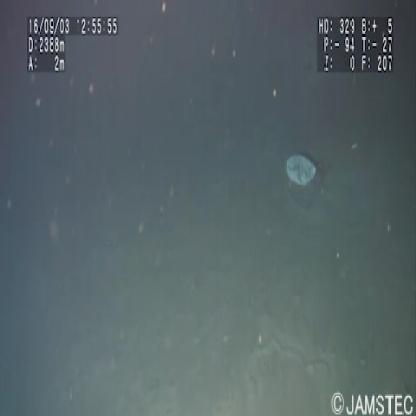Rác: (279, 148, 324, 191)
